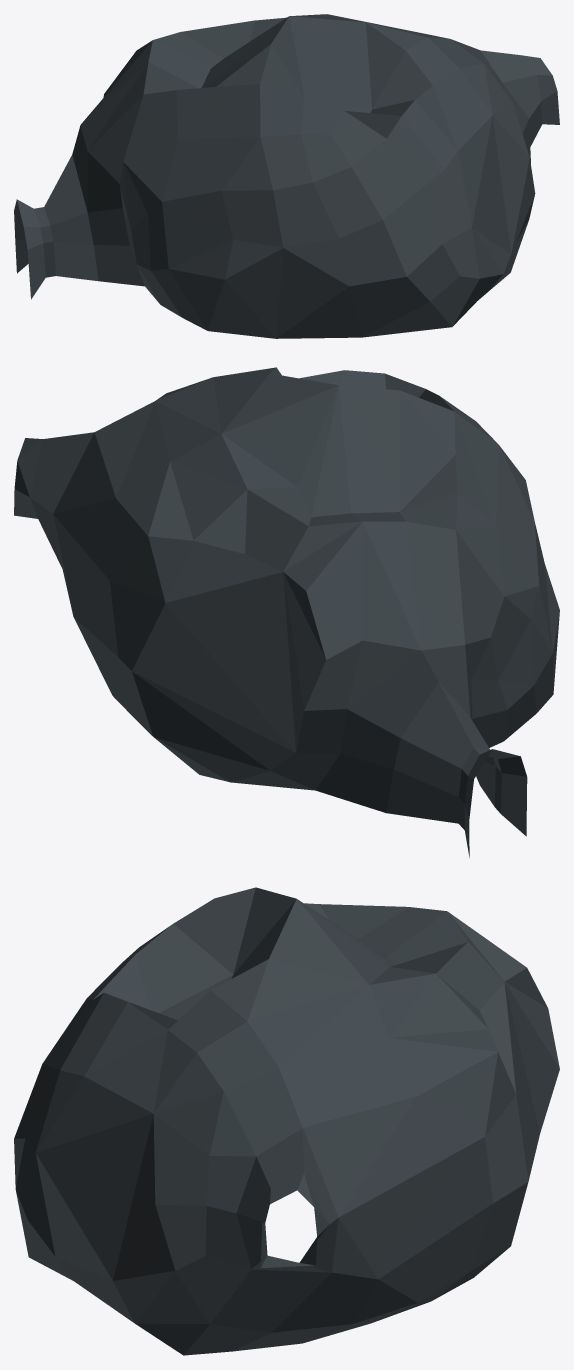
Rendered from Dome-2exits-08.fbx.
3 renders of one model, top to bottom at view 1: azimuth 30°, elevation 25°; view 2: azimuth 150°, elevation 25°; view 3: azimuth 270°, elevation 25°, orthographic. The views are drawn at different scales.
Visible parts, largest first — view 1: Dome-2exits-08; view 2: Dome-2exits-08; view 3: Dome-2exits-08.
Part boxes in pixels (x1,y1,x2,y2): Dome-2exits-08: (14, 14, 559, 338); Dome-2exits-08: (14, 367, 559, 857); Dome-2exits-08: (14, 887, 559, 1355).
Size of the model in its own units: 1746 by 2205 by 1268.
